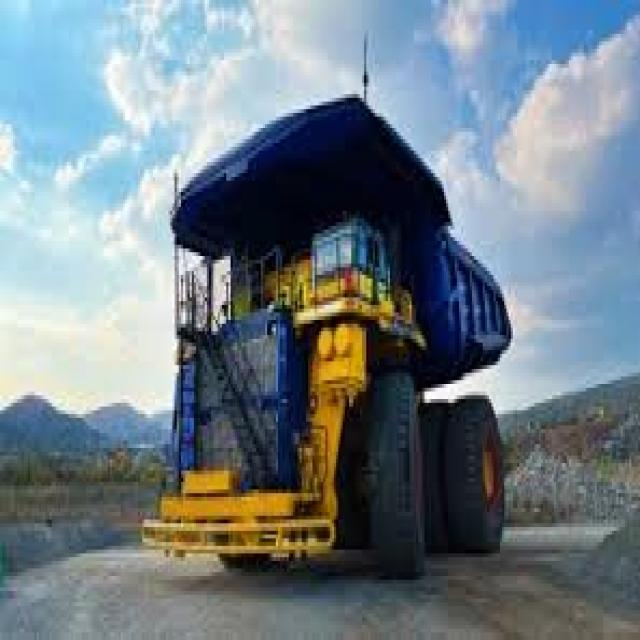dump_truck: (130, 76, 520, 584)
